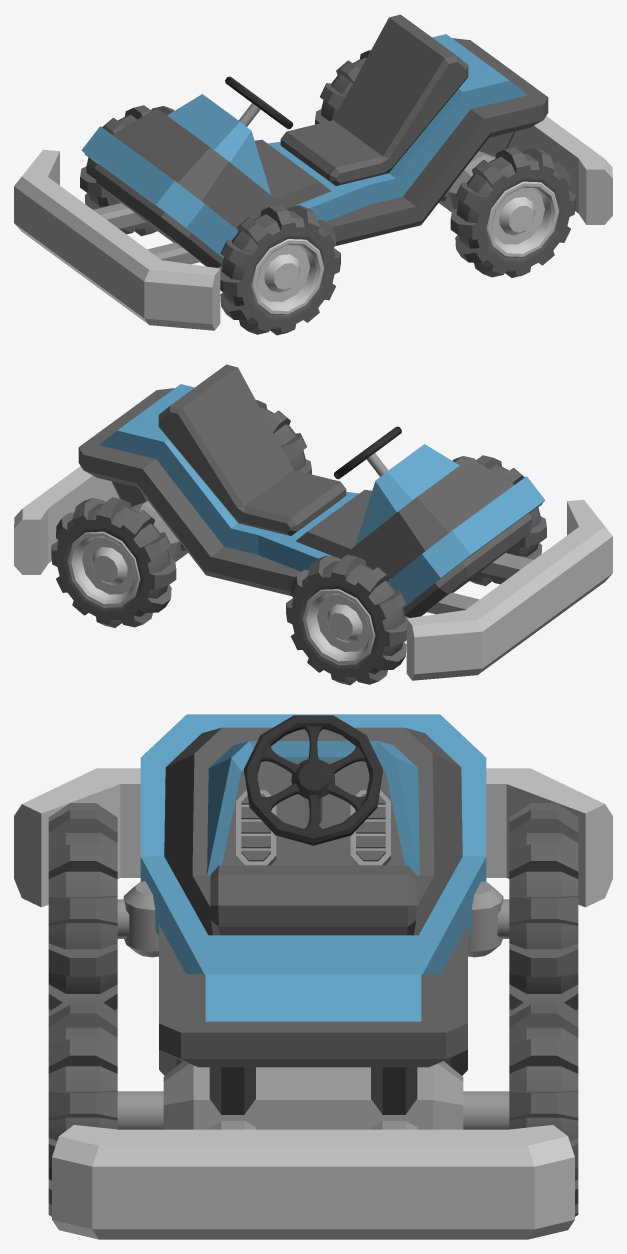
File: kart.obj
3 views of the same model, one above another, from view 1: azimuth 30°, elevation 25°; view 2: azimuth 150°, elevation 25°; view 3: azimuth 270°, elevation 25° (orthographic). The views are drawn at different scales.
Parts seen in each view (by area): view 1: object28, object3, object22, object41, object13, object39, object1, object29, object33, object19, object14, object21 (+4 smaller); view 2: object28, object3, object22, object14, object19, object39, object1, object29, object33, object13, object41, object21 (+4 smaller); view 3: object29, object22, object1, object39, object3, object28, object21, object13, object19, object14, object41, object23 (+8 smaller).
Boxes of the visible parts, left/top/right/bottom form: object28: left=280, top=14, right=468, bottom=185; object3: left=14, top=149, right=220, bottom=330; object22: left=81, top=34, right=527, bottom=257; object41: left=450, top=147, right=575, bottom=277; object13: left=217, top=204, right=340, bottom=335; object39: left=94, top=38, right=548, bottom=267; object1: left=113, top=108, right=331, bottom=228; object29: left=507, top=116, right=612, bottom=224; object33: left=167, top=94, right=270, bottom=194; object19: left=80, top=105, right=174, bottom=236; object14: left=315, top=50, right=370, bottom=124; object21: left=439, top=151, right=495, bottom=211; object28: left=158, top=364, right=346, bottom=535; object3: left=406, top=499, right=612, bottom=680; object22: left=99, top=384, right=545, bottom=607; object14: left=51, top=497, right=176, bottom=627; object19: left=286, top=554, right=409, bottom=685; object39: left=78, top=388, right=532, bottom=617; object1: left=295, top=458, right=513, bottom=578; object29: left=14, top=466, right=119, bottom=574; object33: left=356, top=444, right=459, bottom=544; object13: left=452, top=455, right=546, bottom=586; object41: left=256, top=400, right=311, bottom=474; object21: left=131, top=501, right=187, bottom=561; object29: left=52, top=1125, right=574, bottom=1239; object22: left=140, top=714, right=486, bottom=1021; object1: left=164, top=727, right=462, bottom=935; object39: left=159, top=924, right=467, bottom=1075; object3: left=14, top=768, right=612, bottom=907; object28: left=210, top=865, right=416, bottom=935; object21: left=163, top=1061, right=463, bottom=1129; object13: left=48, top=803, right=117, bottom=1011; object19: left=509, top=803, right=578, bottom=1011; object14: left=509, top=997, right=578, bottom=1216; object41: left=48, top=997, right=117, bottom=1216; object23: left=244, top=715, right=382, bottom=845.
Bounding box in the file's own units: 3.99 × 1.58 × 2.6.
